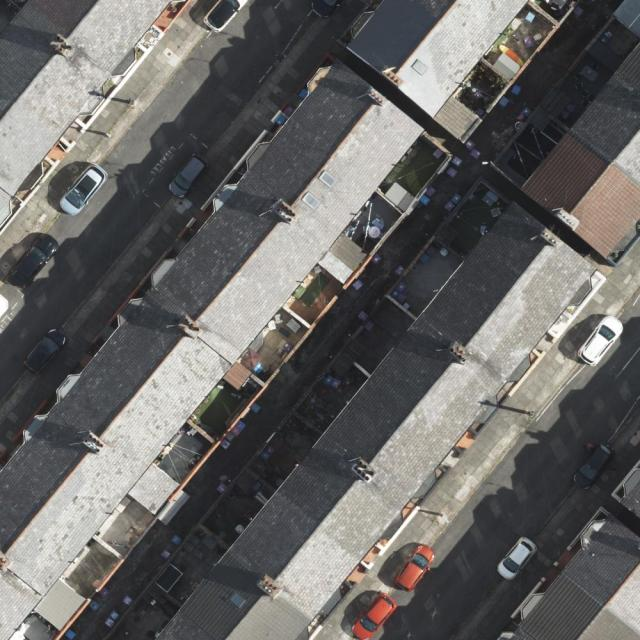roof: (0, 58, 425, 640), (153, 200, 599, 640), (0, 0, 175, 223), (525, 35, 640, 261), (345, 0, 528, 139), (503, 512, 639, 640), (615, 476, 640, 521)
skylight: (406, 56, 430, 80), (300, 190, 321, 213), (318, 168, 338, 190), (229, 591, 247, 610)
